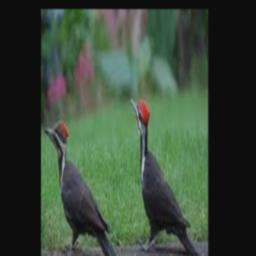Woodpecker: (129, 97, 198, 254), (44, 119, 122, 256)
